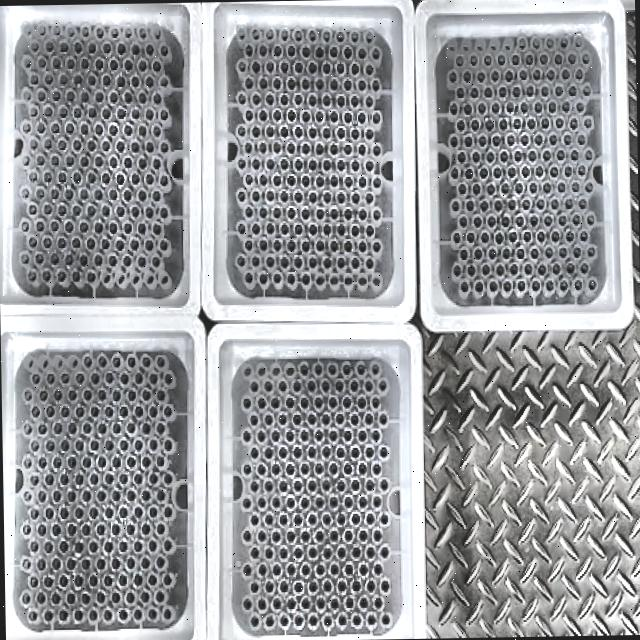vial: (70, 270, 80, 284), (126, 354, 136, 368), (82, 355, 93, 367), (22, 55, 32, 68), (122, 222, 132, 235), (20, 186, 30, 199), (546, 36, 556, 49), (476, 70, 486, 83), (488, 280, 498, 293), (74, 438, 84, 451), (128, 389, 138, 402), (51, 523, 61, 536), (88, 609, 98, 622), (148, 608, 158, 621), (299, 363, 309, 376), (256, 429, 266, 442), (328, 463, 338, 476), (378, 412, 388, 425), (241, 429, 251, 442), (502, 280, 511, 294), (22, 22, 32, 34), (66, 90, 76, 102), (52, 24, 62, 36), (80, 90, 90, 102), (66, 24, 76, 36), (130, 43, 140, 55), (144, 43, 154, 55), (22, 88, 32, 100), (72, 204, 82, 216), (64, 188, 74, 200), (56, 139, 66, 151), (78, 187, 88, 199), (123, 123, 133, 135), (20, 154, 30, 166), (34, 188, 44, 200), (136, 254, 146, 266), (26, 269, 36, 281), (85, 271, 95, 283), (334, 29, 344, 41), (364, 30, 374, 42), (272, 46, 284, 56), (278, 60, 288, 72), (286, 76, 296, 88), (272, 174, 282, 186), (371, 209, 381, 221), (316, 274, 326, 286), (314, 240, 324, 252), (372, 241, 382, 253), (462, 70, 472, 82), (574, 68, 584, 80), (462, 102, 472, 114), (506, 198, 516, 210), (502, 248, 512, 260), (112, 354, 122, 366), (156, 356, 166, 368), (82, 422, 92, 434), (22, 422, 32, 434), (104, 507, 114, 519), (156, 523, 166, 535), (20, 524, 30, 536), (29, 541, 39, 553), (43, 610, 53, 622), (42, 576, 52, 588), (21, 592, 31, 604), (72, 610, 82, 622), (58, 574, 68, 586), (51, 557, 61, 569), (80, 592, 90, 604), (80, 558, 90, 570), (132, 608, 142, 620), (133, 574, 143, 586), (140, 558, 150, 570), (162, 574, 172, 586), (278, 446, 288, 458), (256, 464, 266, 476), (270, 496, 280, 508), (316, 598, 326, 610), (380, 581, 390, 593), (159, 75, 168, 88), (152, 222, 161, 235), (41, 269, 50, 282), (573, 35, 582, 48), (470, 54, 479, 67), (98, 354, 107, 367), (60, 438, 69, 451), (40, 389, 49, 402), (163, 607, 172, 620), (271, 429, 280, 442), (36, 252, 44, 266), (560, 34, 568, 48), (118, 610, 126, 624), (30, 40, 40, 51), (72, 41, 82, 52), (152, 94, 162, 105), (144, 76, 154, 87), (28, 139, 38, 150), (42, 171, 52, 182), (78, 221, 88, 232), (64, 156, 74, 167), (64, 122, 74, 133), (144, 206, 154, 217), (115, 141, 125, 152), (158, 174, 168, 185), (28, 171, 38, 182), (50, 254, 60, 265), (342, 79, 352, 90), (272, 109, 282, 120), (314, 143, 324, 154), (280, 223, 290, 234), (525, 54, 535, 65), (532, 68, 542, 79), (448, 103, 458, 114), (514, 215, 524, 226), (556, 182, 566, 193), (60, 371, 70, 382), (74, 372, 84, 383), (90, 372, 100, 383), (134, 406, 144, 417), (142, 457, 152, 468), (140, 523, 150, 534), (58, 610, 68, 621), (125, 558, 135, 569), (264, 415, 274, 426), (284, 431, 294, 442), (336, 447, 346, 458), (356, 398, 366, 409), (300, 531, 310, 542), (109, 90, 118, 102), (123, 92, 132, 104), (109, 26, 118, 38), (138, 60, 147, 72), (37, 89, 46, 101), (21, 120, 30, 132), (35, 154, 44, 166), (86, 204, 95, 216), (101, 204, 110, 216), (109, 122, 118, 134), (137, 156, 146, 168), (137, 124, 146, 136), (57, 236, 66, 248), (64, 254, 73, 266), (86, 238, 95, 250), (93, 254, 102, 266), (129, 238, 138, 250), (159, 240, 168, 252), (293, 28, 302, 40), (307, 29, 316, 41), (301, 78, 310, 90), (329, 110, 338, 122), (343, 110, 352, 122), (329, 78, 338, 90), (316, 46, 325, 58), (237, 60, 246, 72), (308, 126, 317, 138), (343, 175, 352, 187), (349, 191, 358, 203), (237, 190, 246, 202), (301, 206, 310, 218), (315, 208, 324, 220), (343, 207, 352, 219), (568, 52, 577, 64), (455, 55, 464, 67), (492, 70, 501, 82), (583, 117, 592, 129), (577, 134, 586, 146), (452, 231, 461, 243), (474, 282, 483, 294), (574, 279, 583, 291), (588, 280, 597, 292), (60, 406, 69, 418), (118, 406, 127, 418), (163, 472, 172, 484), (44, 542, 53, 554), (45, 508, 54, 520), (65, 522, 74, 534), (133, 540, 142, 552), (134, 506, 143, 518), (21, 558, 30, 570), (29, 576, 38, 588), (37, 592, 46, 604), (66, 558, 75, 570), (103, 610, 112, 622), (96, 591, 105, 603), (88, 574, 97, 586), (96, 559, 105, 571), (155, 558, 164, 570), (314, 364, 323, 376), (249, 414, 258, 426), (271, 464, 280, 476), (286, 464, 295, 476), (270, 398, 279, 410), (307, 446, 316, 458), (292, 414, 301, 426), (285, 396, 294, 408), (328, 396, 337, 408), (365, 446, 374, 458), (358, 430, 367, 442), (250, 447, 259, 459), (242, 464, 251, 476), (330, 564, 339, 576), (358, 563, 367, 575), (343, 530, 352, 542), (358, 530, 367, 542), (79, 253, 87, 266), (28, 203, 36, 216), (358, 241, 366, 254), (366, 223, 374, 236), (142, 388, 150, 401), (164, 439, 172, 452), (142, 489, 150, 502), (28, 609, 36, 622), (50, 90, 60, 100), (58, 74, 68, 84), (66, 58, 76, 68), (130, 76, 140, 86), (130, 206, 140, 216), (144, 142, 154, 152), (72, 237, 82, 247), (42, 238, 52, 248), (250, 30, 260, 40), (314, 112, 324, 122), (364, 64, 374, 74), (286, 110, 296, 120), (538, 54, 548, 64), (554, 118, 564, 128), (512, 118, 522, 128), (470, 120, 480, 130), (464, 168, 474, 178), (500, 182, 510, 192), (516, 248, 526, 258), (558, 282, 568, 292), (52, 390, 62, 400), (88, 440, 98, 450), (126, 457, 136, 467), (110, 593, 120, 603), (320, 380, 330, 390), (292, 447, 302, 457), (372, 531, 382, 541), (44, 72, 53, 83), (37, 23, 46, 34), (81, 25, 90, 36), (116, 108, 125, 119), (109, 59, 118, 70), (116, 42, 125, 53), (29, 74, 38, 85), (58, 171, 67, 182), (50, 121, 59, 132), (109, 190, 118, 201), (87, 140, 96, 151), (159, 206, 168, 217), (159, 141, 168, 152), (280, 28, 289, 39), (315, 78, 324, 89), (321, 62, 330, 73), (372, 112, 381, 123), (343, 47, 352, 58), (258, 45, 267, 56), (365, 192, 374, 203), (244, 174, 253, 185), (329, 208, 338, 219), (358, 208, 367, 219), (245, 272, 254, 283), (568, 85, 577, 96), (554, 85, 563, 96), (469, 88, 478, 99), (473, 216, 482, 227), (531, 281, 540, 292), (572, 246, 581, 257), (452, 266, 461, 277), (75, 407, 84, 418), (112, 422, 121, 433), (134, 439, 143, 450), (164, 373, 173, 384), (59, 473, 68, 484), (22, 458, 31, 469), (45, 474, 54, 485), (82, 457, 91, 468), (30, 508, 39, 519), (38, 491, 47, 502), (59, 507, 68, 518), (67, 490, 76, 501), (96, 491, 105, 502), (149, 507, 158, 518), (156, 489, 165, 500), (51, 593, 60, 604), (111, 558, 120, 569), (263, 381, 272, 392), (364, 381, 373, 392), (314, 463, 323, 474), (322, 446, 331, 457), (343, 463, 352, 474), (351, 447, 360, 458), (379, 478, 388, 489), (338, 615, 347, 626), (88, 42, 96, 54), (102, 74, 110, 86), (102, 42, 110, 54), (160, 108, 168, 120), (124, 26, 132, 38), (160, 44, 168, 56), (152, 25, 160, 37), (43, 104, 51, 116), (74, 171, 82, 183), (94, 220, 102, 232), (72, 138, 80, 150), (79, 154, 87, 166), (86, 170, 94, 182), (94, 156, 102, 168), (122, 188, 130, 200), (138, 190, 146, 202), (130, 140, 138, 152), (152, 158, 160, 170), (152, 125, 160, 137), (101, 237, 109, 249), (108, 254, 116, 266), (116, 238, 124, 250), (138, 222, 146, 234), (145, 239, 153, 251), (21, 220, 29, 232), (28, 236, 36, 248), (56, 270, 64, 282), (237, 28, 245, 40), (266, 28, 274, 40), (350, 29, 358, 41), (302, 110, 310, 122), (322, 94, 330, 106), (336, 94, 344, 106), (358, 46, 366, 58), (372, 80, 380, 92), (252, 60, 260, 72), (245, 44, 253, 56), (244, 140, 252, 152), (266, 190, 274, 202), (280, 157, 288, 169), (309, 190, 317, 202), (294, 158, 302, 170), (358, 144, 366, 156), (372, 176, 380, 188), (366, 128, 374, 140), (244, 206, 252, 218), (272, 208, 280, 220), (288, 207, 296, 219), (244, 239, 252, 251), (258, 272, 266, 284), (301, 273, 309, 285), (308, 256, 316, 268), (294, 255, 302, 267), (344, 240, 352, 252), (238, 255, 246, 267), (518, 36, 526, 48), (532, 36, 540, 48), (554, 54, 562, 66), (484, 54, 492, 66), (519, 70, 527, 82), (546, 68, 554, 80), (512, 86, 520, 98), (506, 134, 514, 146), (520, 134, 528, 146), (528, 182, 536, 194), (558, 214, 566, 226), (564, 166, 572, 178), (458, 184, 466, 196), (460, 248, 468, 260), (466, 232, 474, 244), (518, 280, 526, 292), (510, 264, 518, 276), (495, 233, 503, 245), (580, 263, 588, 275), (126, 422, 134, 434), (142, 422, 150, 434), (164, 405, 172, 417), (38, 424, 46, 436), (54, 456, 62, 468), (46, 406, 54, 418), (38, 458, 46, 470), (30, 474, 38, 486), (76, 474, 84, 486), (38, 524, 46, 536), (60, 540, 68, 552), (73, 542, 81, 554), (88, 541, 96, 553), (82, 489, 90, 501), (96, 524, 104, 536), (118, 540, 126, 552), (164, 540, 172, 552), (36, 558, 44, 570), (67, 592, 75, 604), (74, 574, 82, 586), (126, 592, 134, 604), (118, 574, 126, 586), (156, 590, 164, 602), (328, 364, 336, 376), (321, 414, 329, 426), (350, 414, 358, 426), (342, 395, 350, 407), (365, 412, 373, 424), (371, 397, 379, 409), (265, 514, 273, 526), (286, 531, 294, 543), (294, 513, 302, 525), (308, 546, 316, 558), (316, 564, 324, 576), (316, 530, 324, 542), (308, 512, 316, 524), (316, 497, 324, 509), (322, 513, 330, 525), (330, 529, 338, 541), (336, 513, 344, 525), (329, 496, 337, 508), (380, 512, 388, 524), (242, 530, 250, 542), (250, 546, 258, 558), (258, 562, 266, 574), (258, 598, 266, 610), (251, 616, 259, 628), (352, 614, 360, 626), (366, 614, 374, 626), (366, 580, 374, 592), (374, 597, 382, 609), (52, 58, 61, 68), (95, 92, 104, 102), (131, 107, 140, 117), (116, 76, 125, 86), (145, 109, 154, 119), (138, 28, 147, 38), (50, 188, 59, 198), (50, 155, 59, 165), (43, 138, 52, 148), (79, 124, 88, 134), (123, 158, 132, 168), (50, 220, 59, 230), (20, 252, 29, 262), (307, 95, 316, 105), (301, 46, 310, 56), (244, 76, 253, 86), (265, 127, 274, 137), (336, 160, 345, 170), (350, 128, 359, 138), (236, 222, 245, 232), (250, 256, 260, 265), (512, 54, 521, 64), (455, 88, 464, 98), (540, 118, 550, 127), (478, 135, 487, 145), (492, 134, 501, 144), (499, 152, 508, 162), (450, 200, 459, 210), (474, 248, 483, 258), (552, 264, 561, 274), (460, 282, 469, 292), (68, 390, 77, 400), (83, 390, 92, 400), (105, 406, 114, 416), (105, 372, 114, 382), (120, 374, 129, 384), (22, 490, 31, 500), (357, 364, 366, 374), (292, 381, 301, 391), (349, 380, 358, 390), (257, 398, 266, 408), (300, 398, 309, 408), (307, 414, 316, 424), (279, 514, 288, 524), (343, 496, 352, 506), (380, 547, 389, 557), (59, 105, 67, 116), (72, 107, 80, 118), (45, 41, 53, 52), (96, 27, 104, 38), (138, 92, 146, 103), (152, 61, 160, 72), (30, 105, 38, 116), (66, 220, 74, 231), (38, 122, 46, 133), (108, 222, 116, 233), (94, 189, 102, 200), (116, 206, 124, 217), (102, 173, 110, 184), (94, 123, 102, 134), (108, 156, 116, 167), (115, 173, 123, 184), (131, 172, 139, 183), (146, 174, 154, 185), (152, 190, 160, 201), (122, 255, 130, 266), (151, 256, 159, 267), (36, 221, 44, 232), (294, 93, 302, 104), (294, 61, 302, 72), (350, 95, 358, 106), (358, 79, 366, 90), (266, 60, 274, 71), (273, 77, 281, 88), (266, 94, 274, 105), (260, 77, 268, 88), (287, 174, 295, 185), (330, 175, 338, 186), (322, 127, 330, 138), (344, 143, 352, 154), (337, 127, 345, 138), (258, 207, 266, 218), (272, 239, 280, 250), (300, 240, 308, 251), (308, 224, 316, 235), (498, 55, 506, 66), (505, 70, 513, 81), (584, 85, 592, 96), (526, 85, 534, 96), (484, 87, 492, 98), (562, 101, 570, 112), (576, 101, 584, 112), (457, 151, 465, 162), (530, 216, 538, 227), (586, 213, 594, 224), (584, 181, 592, 192), (450, 168, 458, 179), (458, 216, 466, 227), (467, 265, 475, 276), (496, 265, 504, 276), (508, 232, 516, 243), (544, 246, 552, 257), (551, 230, 559, 241), (580, 231, 588, 242), (142, 354, 150, 365), (46, 372, 54, 383), (68, 422, 76, 433), (104, 439, 112, 450), (98, 389, 106, 400), (112, 391, 120, 402), (150, 440, 158, 451), (156, 422, 164, 433), (157, 390, 165, 401), (24, 389, 32, 400), (31, 407, 39, 418), (46, 439, 54, 450), (68, 458, 76, 469), (54, 422, 62, 433), (30, 440, 38, 451), (156, 456, 164, 467), (53, 491, 61, 502), (82, 524, 90, 535), (90, 507, 98, 518), (104, 542, 112, 553), (111, 524, 119, 535), (112, 489, 120, 500), (120, 507, 128, 518), (104, 575, 112, 586), (342, 364, 350, 375), (335, 379, 343, 390), (379, 381, 387, 392), (264, 447, 272, 458), (300, 430, 308, 441), (314, 429, 322, 440), (344, 429, 352, 440), (250, 481, 258, 492), (256, 498, 264, 509), (294, 548, 302, 559), (279, 481, 287, 492), (358, 497, 366, 508), (372, 496, 380, 507), (242, 497, 250, 508), (272, 564, 280, 575), (243, 563, 251, 574), (243, 598, 251, 609), (359, 598, 367, 609), (252, 91, 259, 103), (323, 256, 330, 268), (524, 264, 531, 276), (372, 364, 379, 376), (381, 446, 388, 458), (352, 546, 359, 558), (351, 512, 358, 524), (331, 598, 338, 610), (101, 108, 110, 117), (38, 58, 46, 68), (59, 42, 67, 52), (74, 74, 82, 84), (88, 75, 96, 85), (80, 58, 88, 68), (95, 60, 103, 70), (124, 59, 132, 69), (57, 204, 65, 214), (102, 140, 110, 150), (322, 30, 330, 40), (287, 44, 295, 54), (308, 62, 316, 72), (330, 46, 338, 56), (336, 62, 344, 72), (365, 96, 373, 106), (280, 94, 288, 104), (258, 110, 266, 120), (252, 159, 260, 169), (280, 190, 288, 200), (266, 159, 274, 169), (258, 142, 266, 152), (273, 142, 281, 152), (294, 192, 302, 202), (287, 142, 295, 152), (280, 127, 288, 137), (294, 126, 302, 136), (308, 158, 316, 168), (337, 192, 345, 202), (322, 160, 330, 170), (328, 144, 336, 154), (358, 176, 366, 186), (352, 160, 360, 170), (364, 160, 372, 170), (372, 144, 380, 154), (238, 158, 246, 168), (252, 190, 260, 200), (272, 272, 280, 282), (266, 256, 274, 266), (258, 240, 266, 250), (252, 224, 260, 234), (266, 222, 274, 232), (288, 274, 296, 284), (294, 224, 302, 234), (287, 240, 295, 250), (322, 226, 330, 236), (336, 256, 344, 266), (364, 258, 372, 268), (582, 54, 590, 64), (448, 72, 456, 82), (560, 68, 568, 78), (540, 86, 548, 96), (498, 86, 506, 96), (491, 102, 499, 112), (507, 103, 515, 113), (548, 102, 556, 112), (569, 118, 577, 128), (528, 118, 536, 128), (500, 119, 508, 129), (485, 119, 493, 129), (456, 120, 464, 130), (464, 135, 472, 145), (534, 133, 542, 143), (550, 134, 558, 144), (564, 134, 572, 144), (480, 199, 488, 209), (488, 216, 496, 226), (494, 200, 502, 210), (486, 184, 494, 194), (472, 150, 480, 160), (486, 151, 494, 161), (522, 200, 530, 210), (515, 182, 523, 192), (507, 166, 515, 176), (514, 152, 522, 162), (521, 166, 529, 176), (536, 198, 544, 208), (544, 214, 552, 224), (536, 166, 544, 176), (542, 150, 550, 160), (564, 198, 572, 208), (572, 214, 580, 224), (578, 198, 586, 208), (570, 182, 578, 192), (556, 150, 564, 160), (569, 152, 577, 162), (578, 166, 586, 176), (584, 150, 592, 160), (530, 248, 538, 258), (536, 230, 544, 240), (566, 230, 574, 240), (588, 246, 596, 256), (32, 374, 40, 384), (90, 406, 98, 416), (98, 424, 106, 434), (120, 440, 128, 450), (134, 372, 142, 382), (148, 406, 156, 416), (90, 474, 98, 484), (112, 456, 120, 466), (148, 474, 156, 484), (74, 508, 82, 518), (126, 524, 134, 534), (148, 540, 156, 550), (164, 506, 172, 516), (149, 574, 157, 584), (250, 381, 258, 391), (278, 380, 286, 390), (307, 380, 315, 390), (242, 398, 250, 408), (300, 464, 308, 474), (329, 430, 337, 440), (314, 396, 322, 406), (335, 414, 343, 424), (358, 464, 366, 474), (372, 464, 380, 474), (272, 532, 280, 542), (279, 548, 287, 558), (301, 565, 309, 575), (264, 482, 272, 492), (323, 548, 331, 558), (300, 498, 308, 508), (294, 480, 302, 490), (337, 548, 345, 558), (344, 564, 352, 574), (366, 547, 374, 557), (374, 564, 382, 574), (366, 513, 374, 523), (250, 515, 258, 525), (258, 530, 266, 540), (264, 548, 272, 558), (250, 582, 258, 592), (265, 582, 273, 592), (280, 616, 288, 626), (294, 616, 302, 626), (279, 581, 287, 591), (294, 581, 302, 591), (302, 598, 310, 608), (308, 582, 316, 592), (322, 580, 330, 590), (338, 582, 346, 592), (128, 489, 134, 502), (372, 47, 379, 58), (245, 110, 252, 121), (260, 173, 267, 184), (252, 126, 259, 137), (324, 191, 331, 202), (329, 240, 336, 251), (550, 166, 557, 177), (488, 248, 495, 259), (546, 279, 553, 290), (523, 231, 530, 242), (352, 581, 359, 592), (301, 143, 309, 152), (478, 103, 486, 112), (520, 102, 528, 111), (534, 102, 542, 111), (472, 182, 478, 194), (150, 373, 158, 382), (43, 204, 50, 214), (238, 125, 245, 135), (279, 256, 286, 266), (352, 257, 359, 267), (352, 225, 359, 235), (449, 135, 456, 145), (481, 168, 488, 178), (494, 167, 501, 177), (551, 198, 558, 208), (543, 182, 550, 192), (482, 264, 489, 274), (481, 232, 488, 242), (119, 473, 126, 483), (278, 414, 285, 424), (372, 428, 379, 438), (287, 564, 294, 574), (287, 498, 294, 508), (308, 480, 315, 490), (322, 480, 329, 490), (351, 480, 358, 490), (309, 616, 316, 626), (323, 616, 330, 626), (502, 216, 508, 227), (538, 264, 544, 275), (98, 456, 104, 467), (142, 591, 148, 602), (338, 480, 344, 491), (266, 616, 272, 627), (288, 599, 294, 610), (357, 114, 365, 122), (338, 226, 346, 234), (528, 152, 536, 160), (351, 63, 358, 72), (238, 93, 245, 102), (316, 177, 323, 186), (105, 473, 112, 482), (134, 473, 141, 482), (466, 200, 472, 210), (566, 263, 572, 273), (559, 248, 565, 258), (366, 480, 372, 490), (274, 598, 280, 608), (346, 598, 352, 608), (382, 614, 388, 624), (88, 108, 95, 116), (302, 176, 309, 184)
